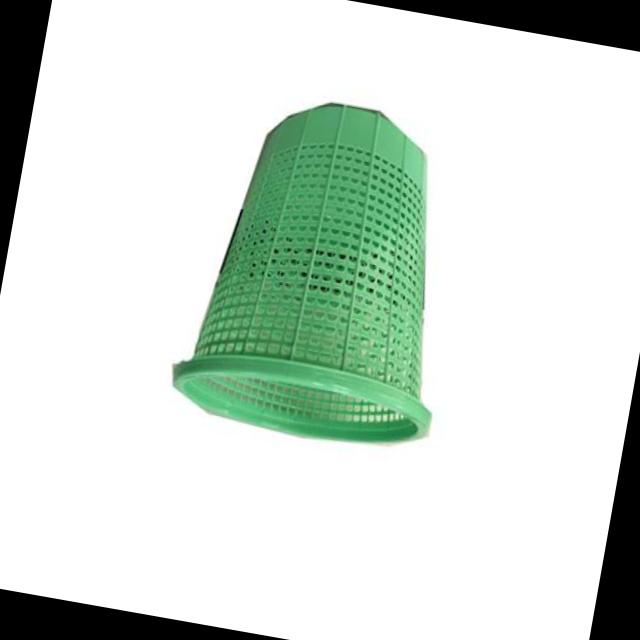dustbin: (162, 76, 490, 466)
